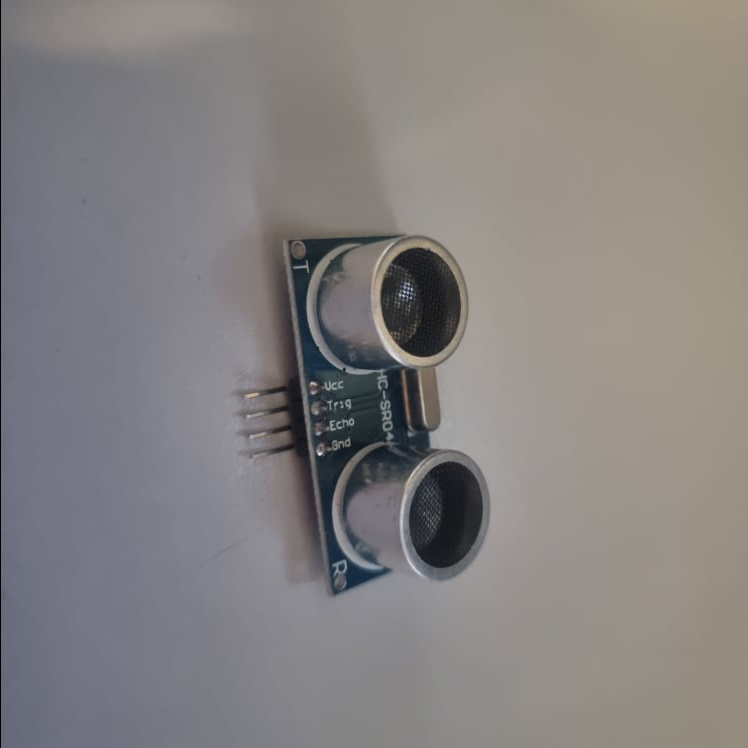SENSOR: (245, 235, 489, 602)
